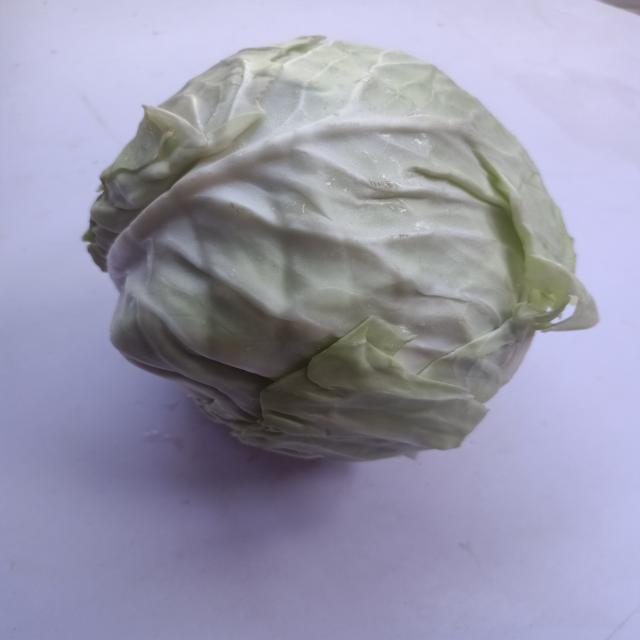Cabbage: (60, 15, 600, 471)
